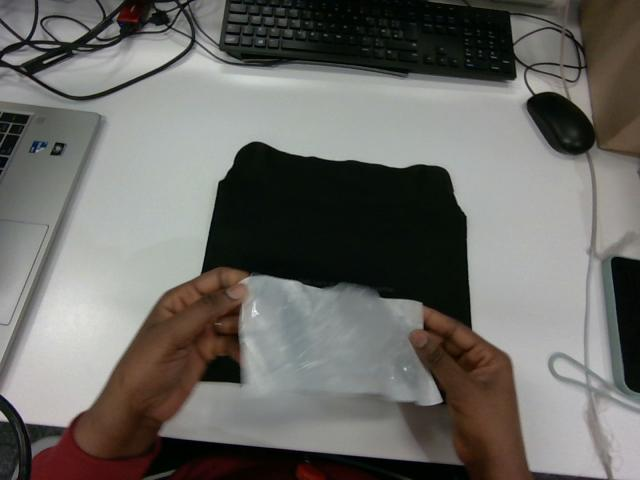gallipot: (240, 275, 441, 404)
